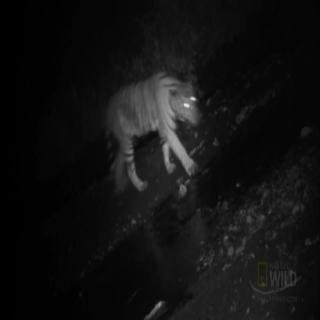Tiger: (96, 66, 209, 197)
